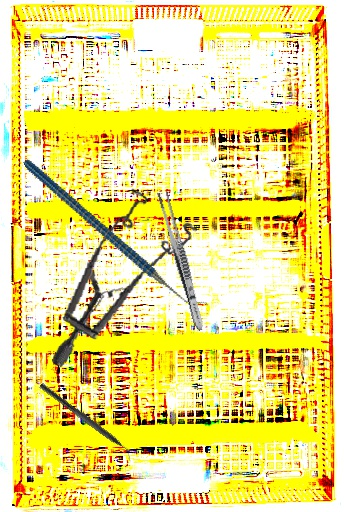Chopper: (22, 117, 209, 350), (34, 382, 138, 464)
Dressing Forceps: (154, 189, 208, 333)
Speculum: (51, 179, 202, 385)
